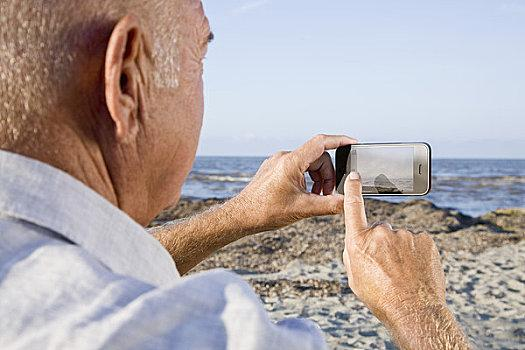taking photos: (236, 131, 451, 325)
